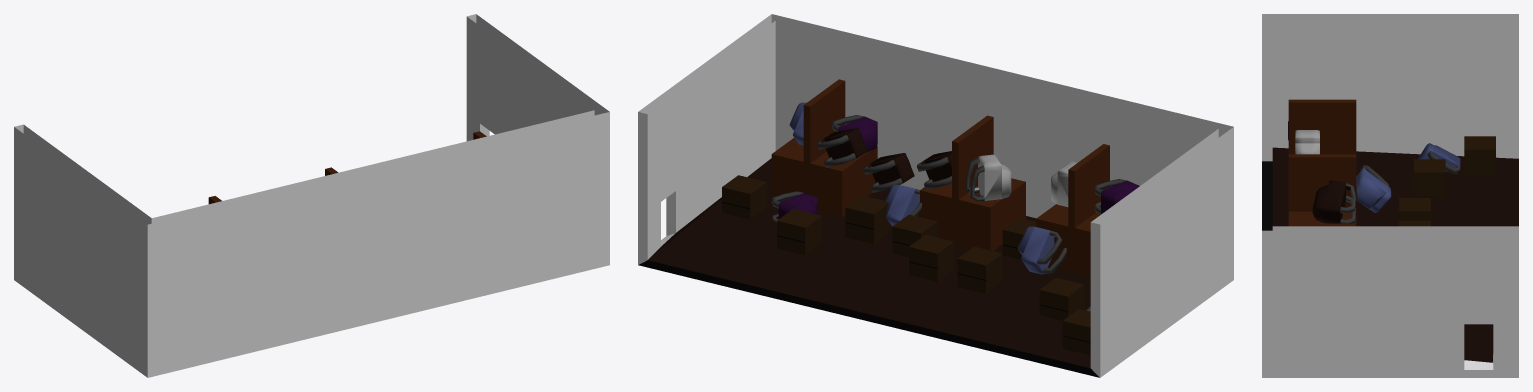
File: mart3_2.FBX
3 renders of one model, left to right at view 1: azimuth 30°, elevation 25°; view 2: azimuth 150°, elevation 25°; view 3: azimuth 270°, elevation 25°, orthographic. The views are drawn at different scales.
Visible parts, largest first — view 1: Box008; view 2: Box008; view 3: Box008.
Boxes of the visible parts, x1,y1,x2,y2 form: Box008: (14, 14, 609, 377); Box008: (638, 14, 1233, 377); Box008: (1262, 14, 1518, 377).
Size of the model in its own units: 1500 by 489 by 752.
